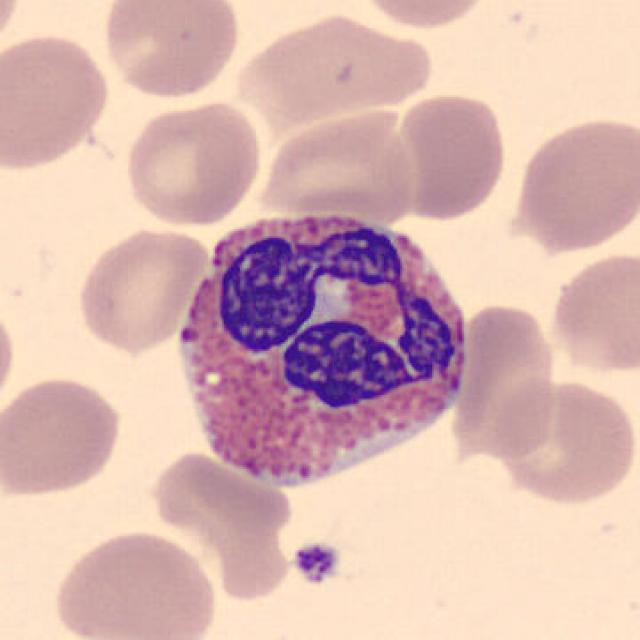Eosinophil: (160, 192, 478, 506)
Platelets: (288, 538, 343, 587)
RBC: (231, 9, 434, 129), (157, 457, 302, 604), (46, 525, 220, 640), (491, 374, 638, 508), (254, 104, 420, 222), (505, 111, 638, 257), (121, 97, 265, 229), (450, 298, 560, 464), (73, 224, 211, 354), (384, 88, 510, 222), (0, 28, 114, 175), (0, 372, 126, 501), (97, 0, 243, 102), (544, 245, 640, 379), (352, 0, 496, 32), (0, 293, 20, 418), (0, 0, 25, 58)
